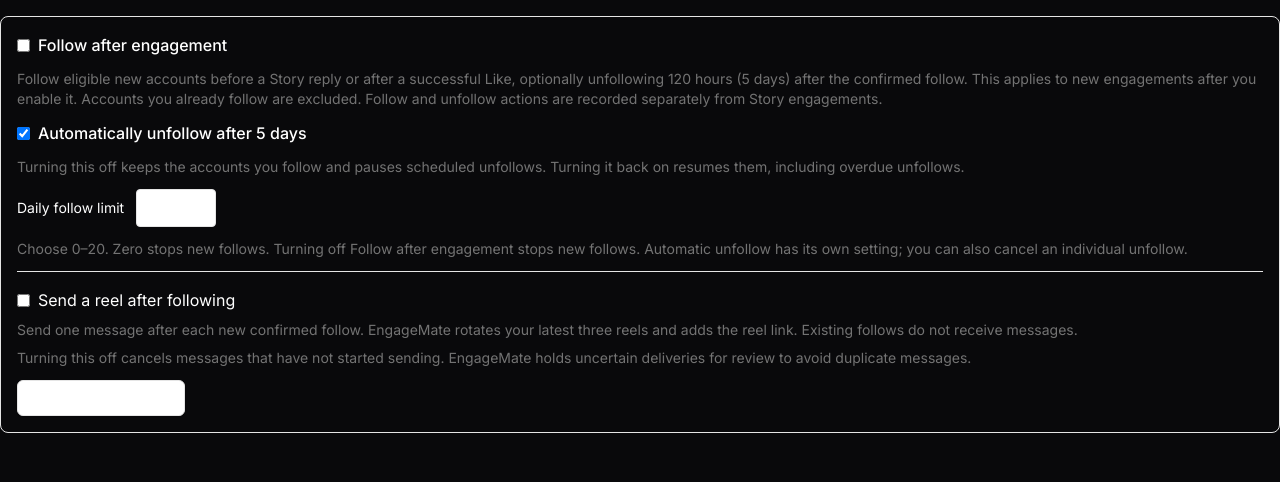
Test: requires an explicit save and preserves independent follow/unfollow choices
Expected: the checkbox labelled "Automatically unfollow after 5 days" is checked, [17,126,30,140]
Expected: the number field labelled "Daily follow limit" holds "3", [136,189,216,227]
Click the checkbox labelled "Follow after engagement" at (24, 45), box [17,38,30,52]
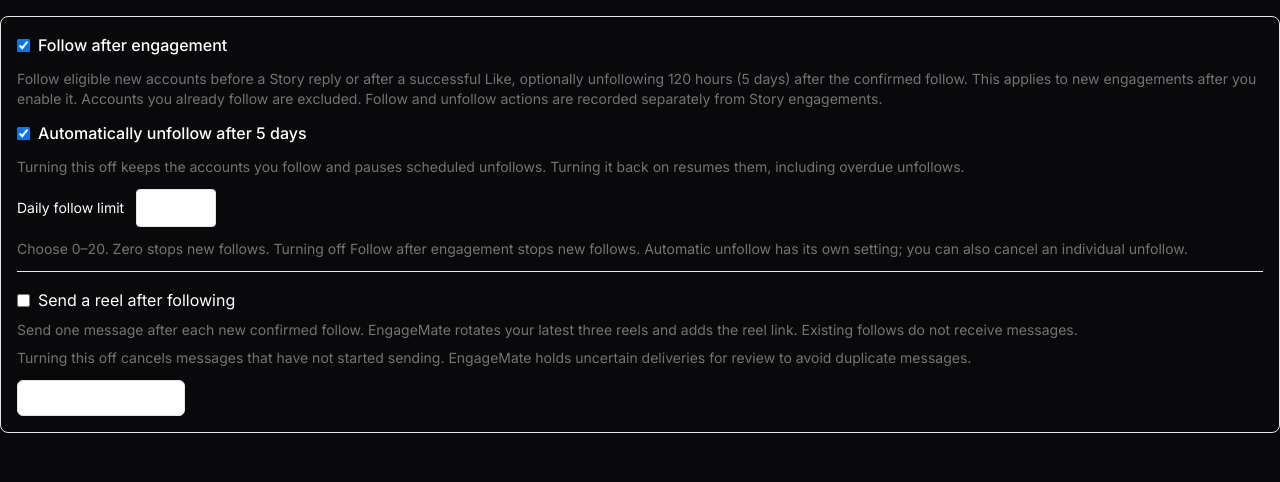
Click the checkbox labelled "Automatically unfollow after 5 days" at (24, 133), box [17,126,30,140]
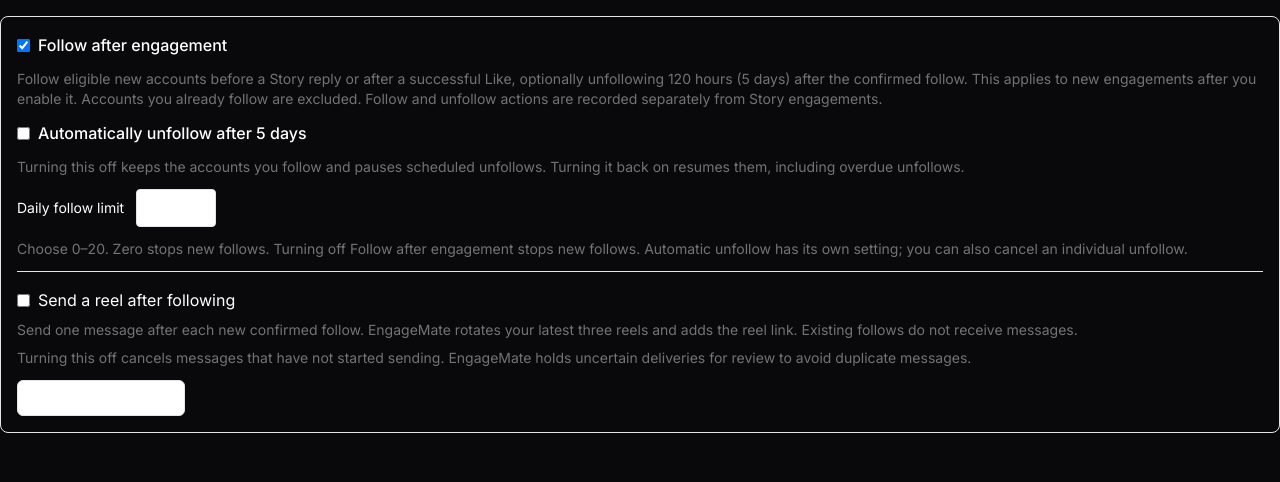
Click the button "Save follow settings" at (101, 398), box [17,380,185,416]
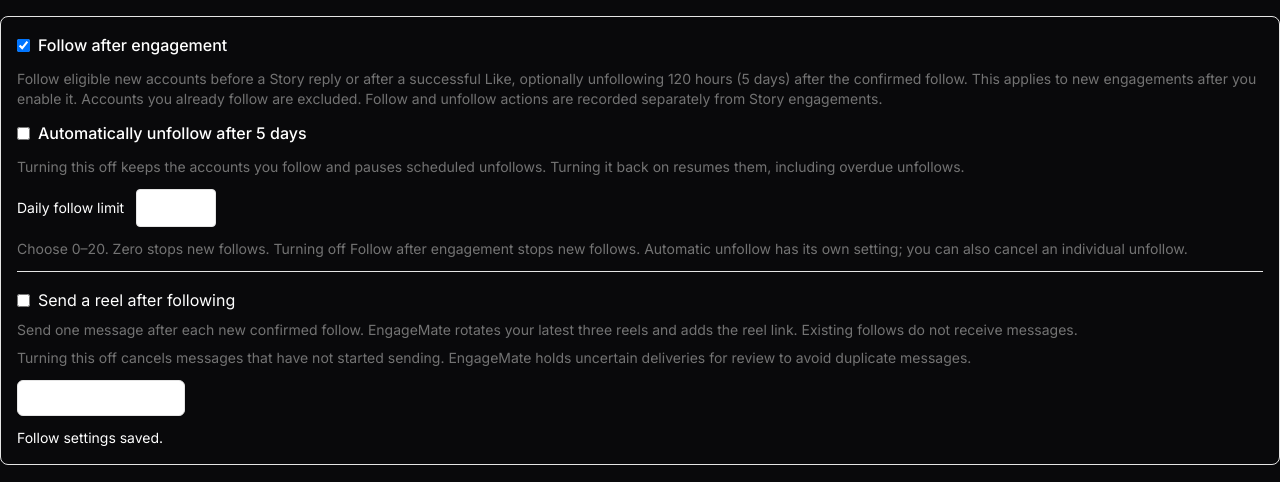
Expected: the text "including overdue unfollows" is shown, [17,158,965,175]
Expected: the text "Follow settings saved." is shown, [17,429,163,446]
